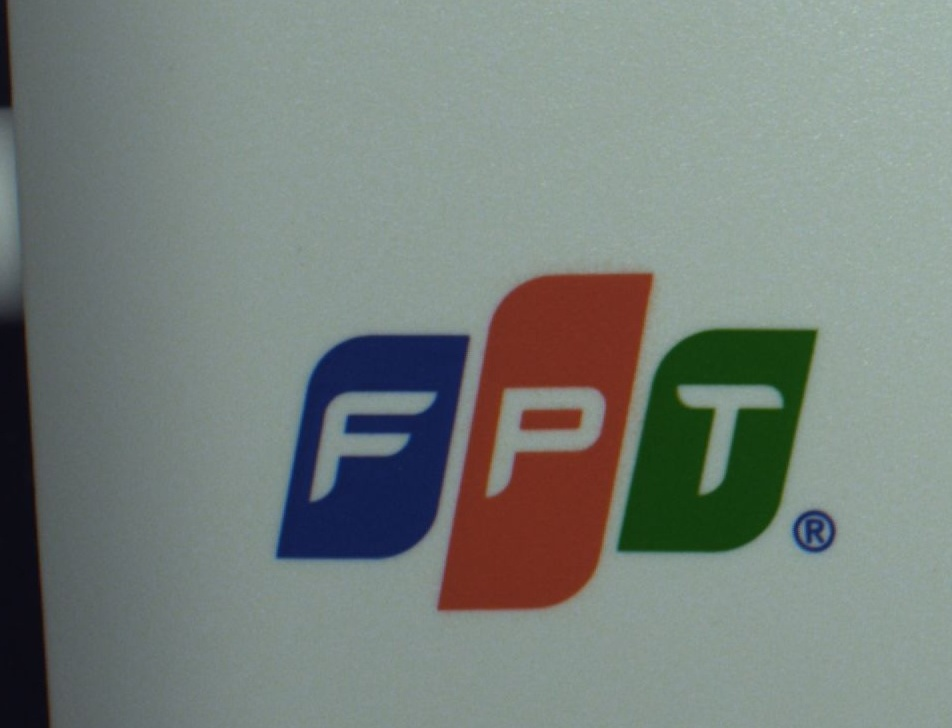BR_FPT: (248, 260, 837, 616)
